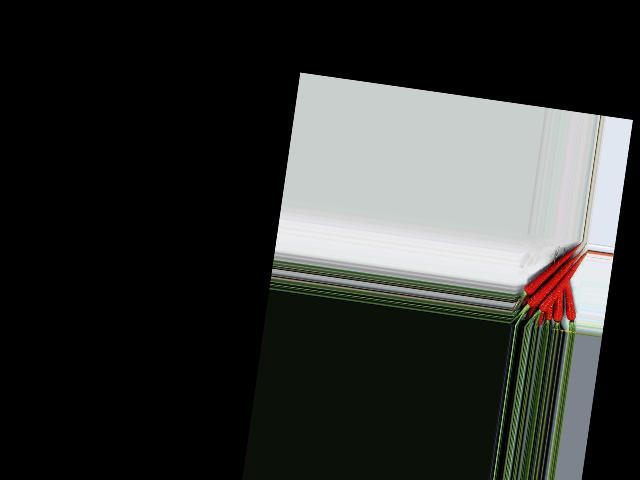carrot: (558, 280, 582, 322)
